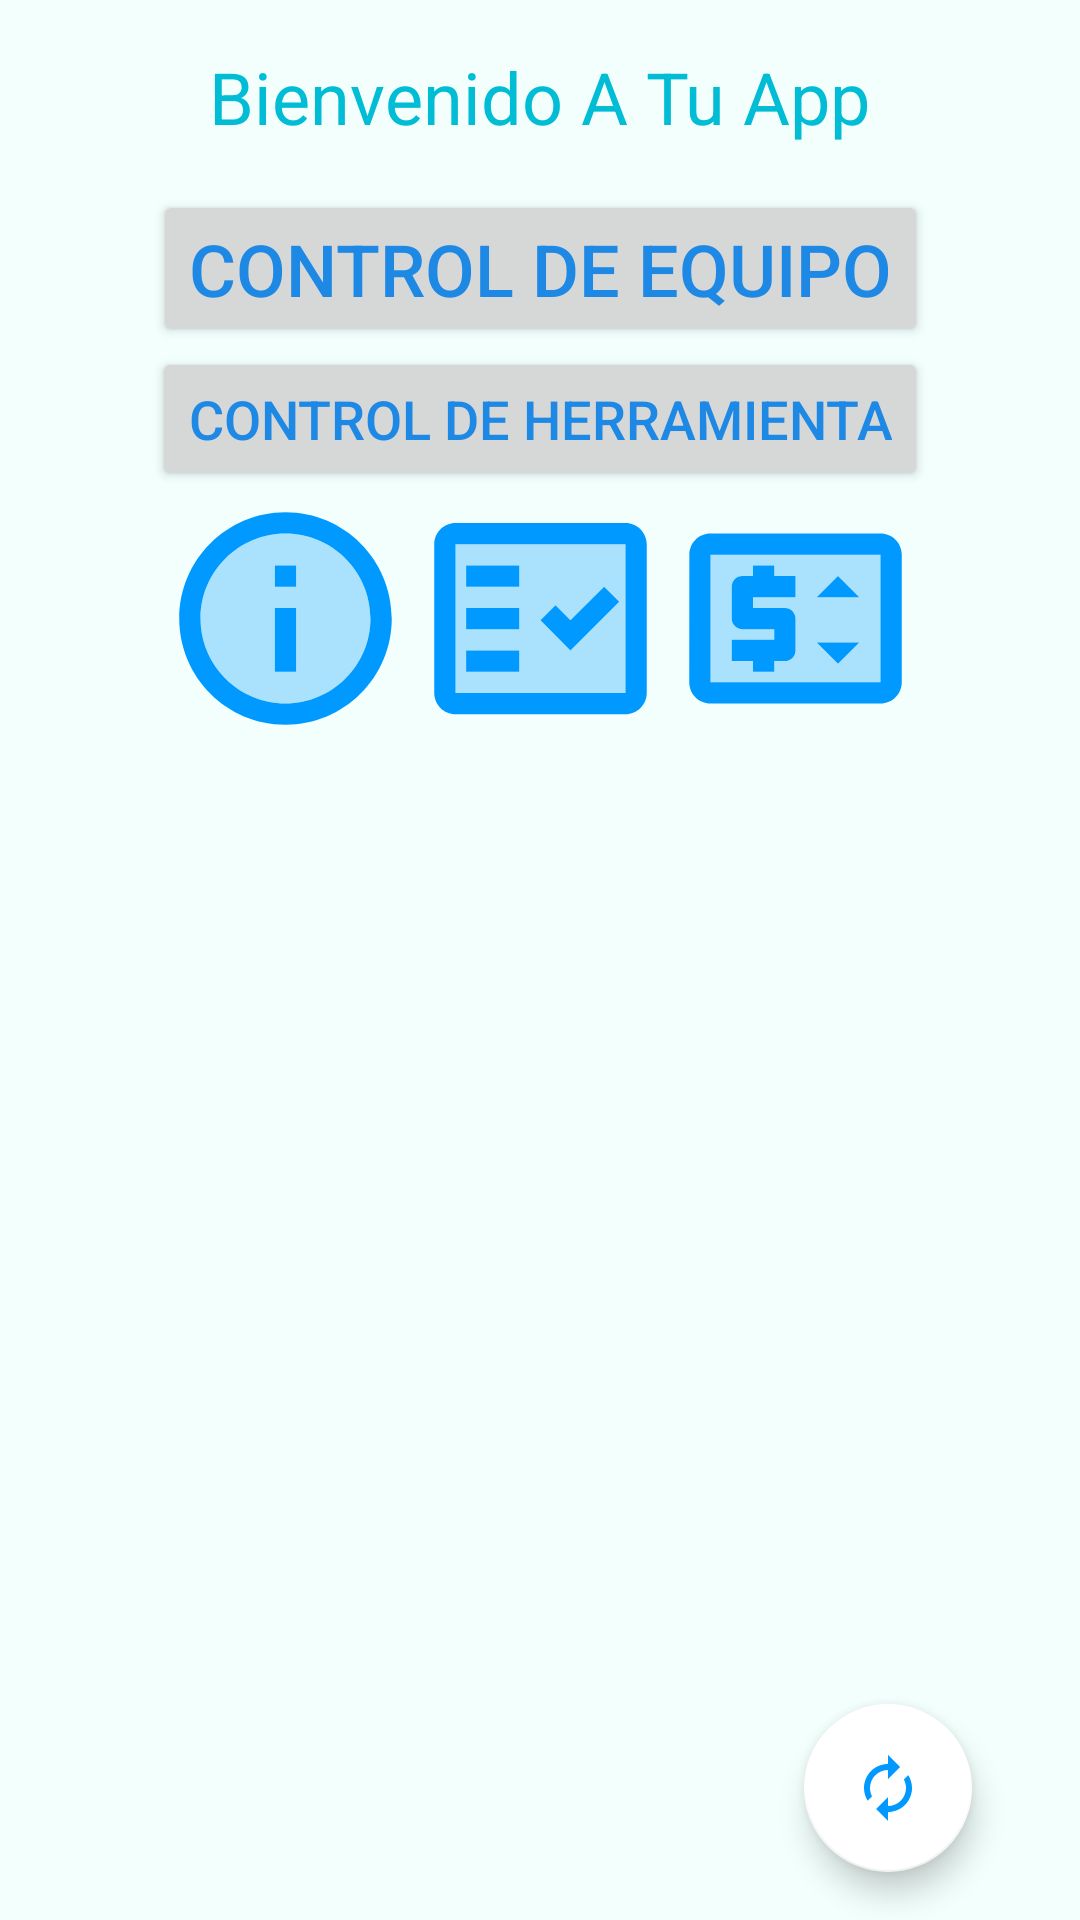

Locate icon controls on the screen. Image size 1080 × 1920, boxes as detection(x1, y1, x2, y2).
actualizar: detection(804, 1704, 972, 1872)
fact check: detection(434, 523, 647, 715)
info: detection(179, 512, 392, 725)
price change: detection(689, 533, 902, 704)
